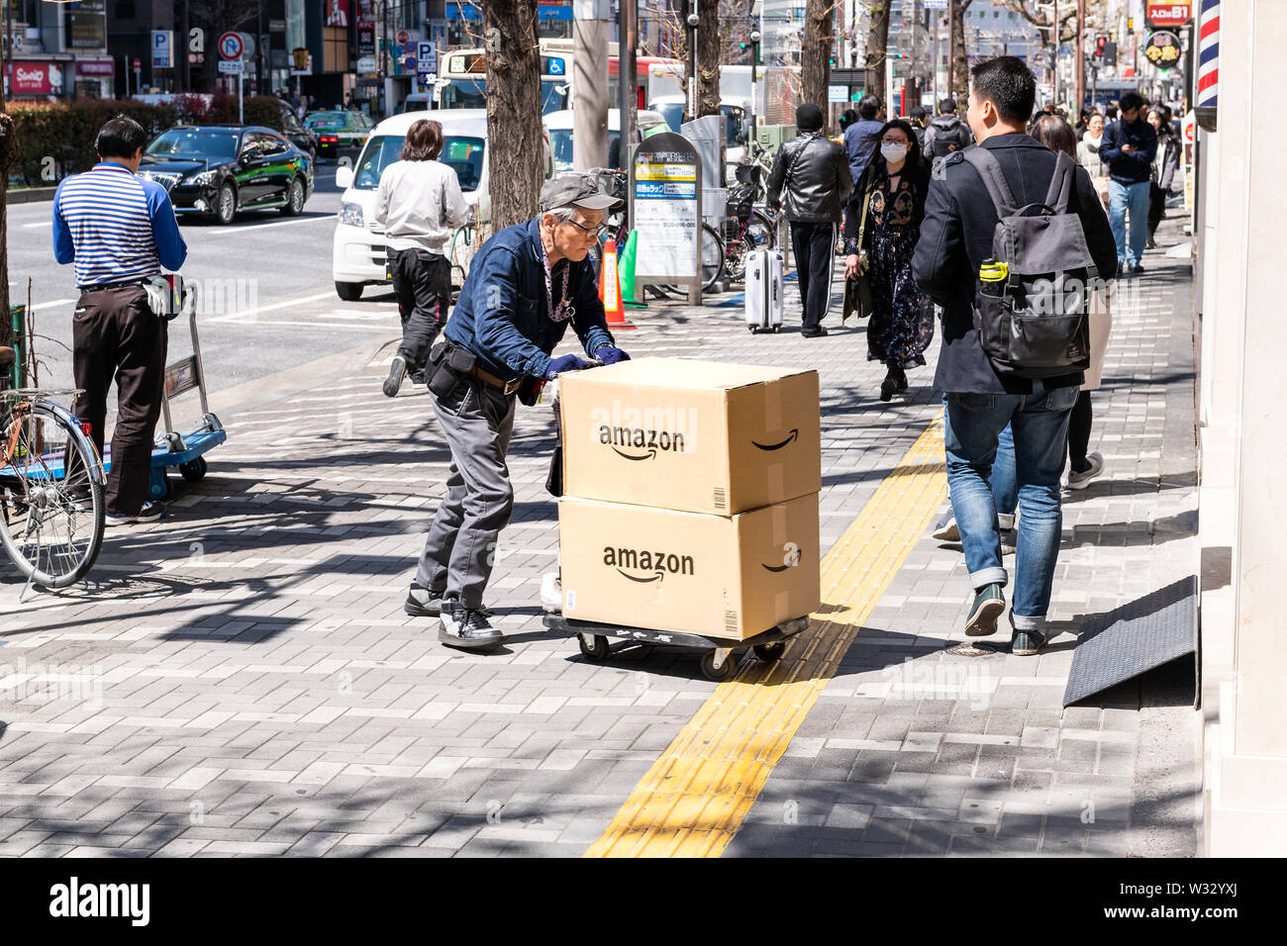Car: (139, 115, 332, 230)
DeliveryBox: (532, 335, 839, 521), (537, 484, 842, 670)
Person: (883, 66, 1093, 644), (421, 175, 576, 661), (34, 129, 210, 518), (831, 109, 968, 414)
